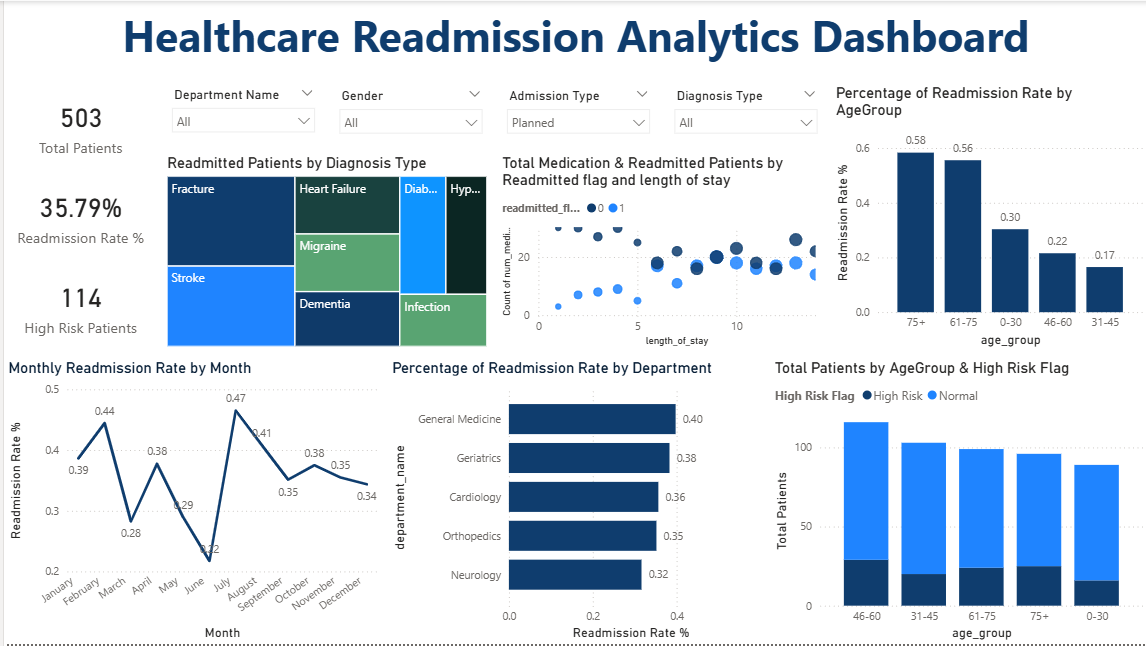

The page's visual inventory and layout, read from the dashboard file:
{"tool":"powerbi","page":{"name":"Page 1","canvas":[1280,720],"ordinal":0},"visuals":[{"type":"textbox","box":[0,0,1280.3,75.6],"z":0},{"type":"card","fields":{"Values":["healthcare_dw fact_readmission.Total Patients"]},"box":[0,90.9,172.1,98],"z":1000},{"type":"card","fields":{"Values":["healthcare_dw fact_readmission.Readmission Rate %"]},"box":[0,191.7,172.1,98],"z":2000},{"type":"card","fields":{"Values":["healthcare_dw fact_readmission.High Risk Patients"]},"box":[0,292.4,172.1,97.9],"z":3000},{"type":"clusteredColumnChart","title":"Percentage of Readmission Rate by AgeGroup","fields":{"Category":["healthcare_dw dim_patient.age_group"],"Y":["healthcare_dw fact_readmission.Readmission Rate %"]},"box":[926.3,92.3,354,300],"z":4000},{"type":"barChart","title":"Percentage of Readmission Rate by Department","fields":{"Category":["healthcare_dw dim_department.department_name"],"Y":["healthcare_dw fact_readmission.Readmission Rate %"]},"box":[429.6,400.2,422.6,320.4],"z":5000},{"type":"lineChart","title":"Monthly Readmission Rate by  Month","fields":{"Y":["healthcare_dw fact_readmission.Readmission Rate %"],"Category":["healthcare_dw fact_readmission.Admission Date.Variation.Date Hierarchy.Month"]},"box":[0,400.2,423,320.4],"z":6000},{"type":"columnChart","title":"Total Patients by AgeGroup & High Risk Flag","fields":{"Category":["healthcare_dw dim_patient.age_group"],"Series":["healthcare_dw fact_readmission.High Risk Flag"],"Y":["healthcare_dw fact_readmission.Total Patients"]},"box":[857.7,400.2,423,320.4],"z":7000},{"type":"scatterChart","title":"Total Medication  & Readmitted Patients by Readmitted flag and length of stay","fields":{"X":["healthcare_dw fact_readmission.length_of_stay"],"Size":["healthcare_dw fact_readmission.Readmitted Patients"],"Series":["healthcare_dw fact_readmission.readmitted_flag"],"Y":["CountNonNull(healthcare_dw fact_readmission.num_medications)"]},"box":[552.7,170.7,368,221.1],"z":8000},{"type":"treemap","title":"Readmitted Patients by Diagnosis Type","fields":{"Group":["healthcare_dw dim_diagnosis.diagnosis_name"],"Values":["healthcare_dw fact_readmission.Readmitted Patients"]},"box":[177.7,170.7,368,221.1],"z":9000},{"type":"slicer","title":"DepartmentName","fields":{"Values":["healthcare_dw dim_department.department_name"]},"box":[177.7,90.9,180.5,71.4],"z":10000},{"type":"slicer","fields":{"Values":["healthcare_dw dim_patient.gender"]},"box":[365.2,92.3,180.5,71.4],"z":11000},{"type":"slicer","fields":{"Values":["healthcare_dw dim_admission.admission_type"]},"box":[552.7,92.3,180.5,71.4],"z":12000},{"type":"slicer","fields":{"Values":["healthcare_dw dim_diagnosis.diagnosis_name"]},"box":[740.2,92.3,180.5,71.4],"z":13000}]}

Visuals, with their boxes in screenshot pixels (x1, y1, x2, y2), scaled from the page's 1280x720 canvas onto the 1146x646 screenshot:
textbox: crop(0, 0, 1145, 68)
card - healthcare_dw fact_readmission.Total Patients: crop(0, 82, 154, 169)
card - healthcare_dw fact_readmission.Readmission Rate %: crop(0, 172, 154, 260)
card - healthcare_dw fact_readmission.High Risk Patients: crop(0, 262, 154, 350)
"Percentage of Readmission Rate by AgeGroup" clusteredColumnChart: crop(829, 83, 1145, 352)
"Percentage of Readmission Rate by Department" barChart: crop(385, 359, 763, 645)
"Monthly Readmission Rate by  Month" lineChart: crop(0, 359, 379, 645)
"Total Patients by AgeGroup & High Risk Flag" columnChart: crop(768, 359, 1145, 645)
"Total Medication  & Readmitted Patients by Readmitted flag and length of stay" scatterChart: crop(495, 153, 824, 352)
"Readmitted Patients by Diagnosis Type" treemap: crop(159, 153, 489, 352)
"DepartmentName" slicer: crop(159, 82, 321, 146)
slicer - healthcare_dw dim_patient.gender: crop(327, 83, 489, 147)
slicer - healthcare_dw dim_admission.admission_type: crop(495, 83, 656, 147)
slicer - healthcare_dw dim_diagnosis.diagnosis_name: crop(663, 83, 824, 147)
